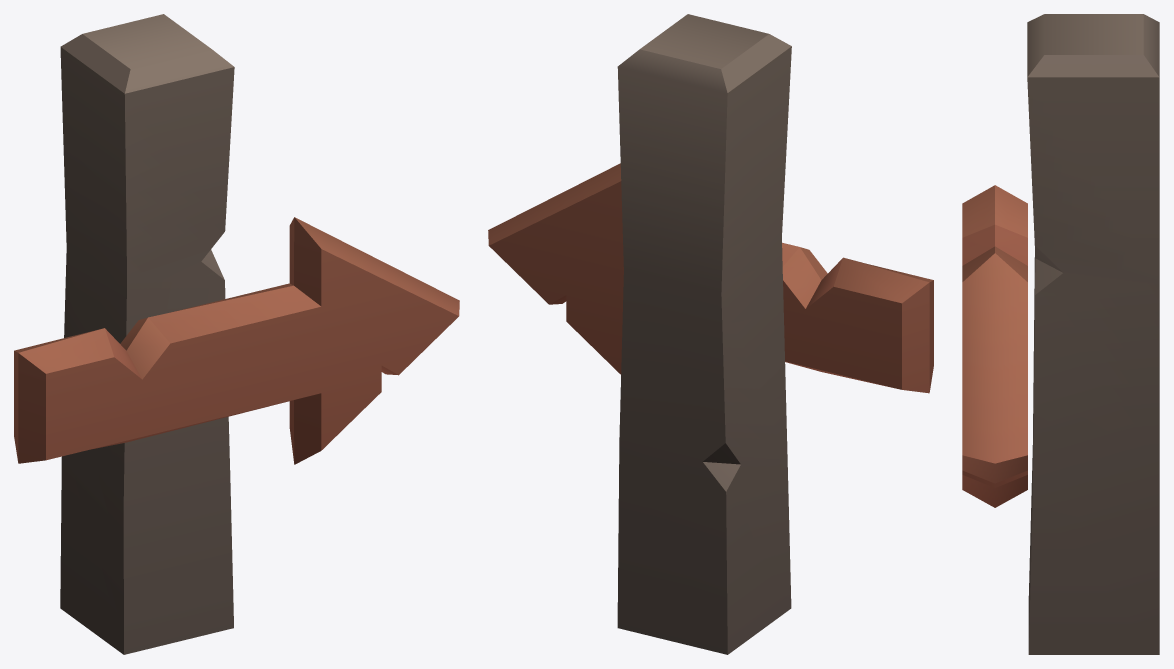
The model's file is sign_right.glb.
3 renders of one model, left to right at view 1: azimuth 30°, elevation 25°; view 2: azimuth 150°, elevation 25°; view 3: azimuth 270°, elevation 25°, orthographic. The views are drawn at different scales.
Visible parts, largest first — view 1: sign_right; view 2: sign_right; view 3: sign_right.
Boxes of the visible parts, x1,y1,x2,y2 form: sign_right: [14, 14, 459, 654]; sign_right: [488, 14, 933, 654]; sign_right: [962, 14, 1159, 654].
Bounding box in the file's own units: 1.6 × 2 × 0.6026.
Materials: 1 (1 with a texture image).
